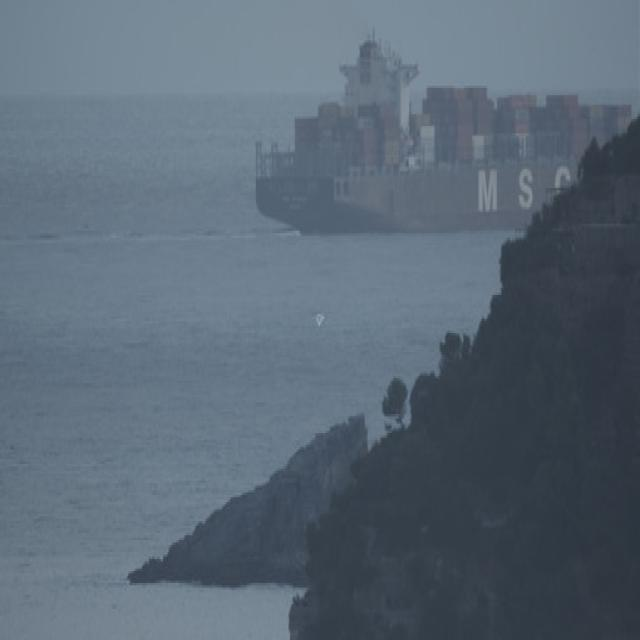cargoship: (251, 22, 633, 238)
